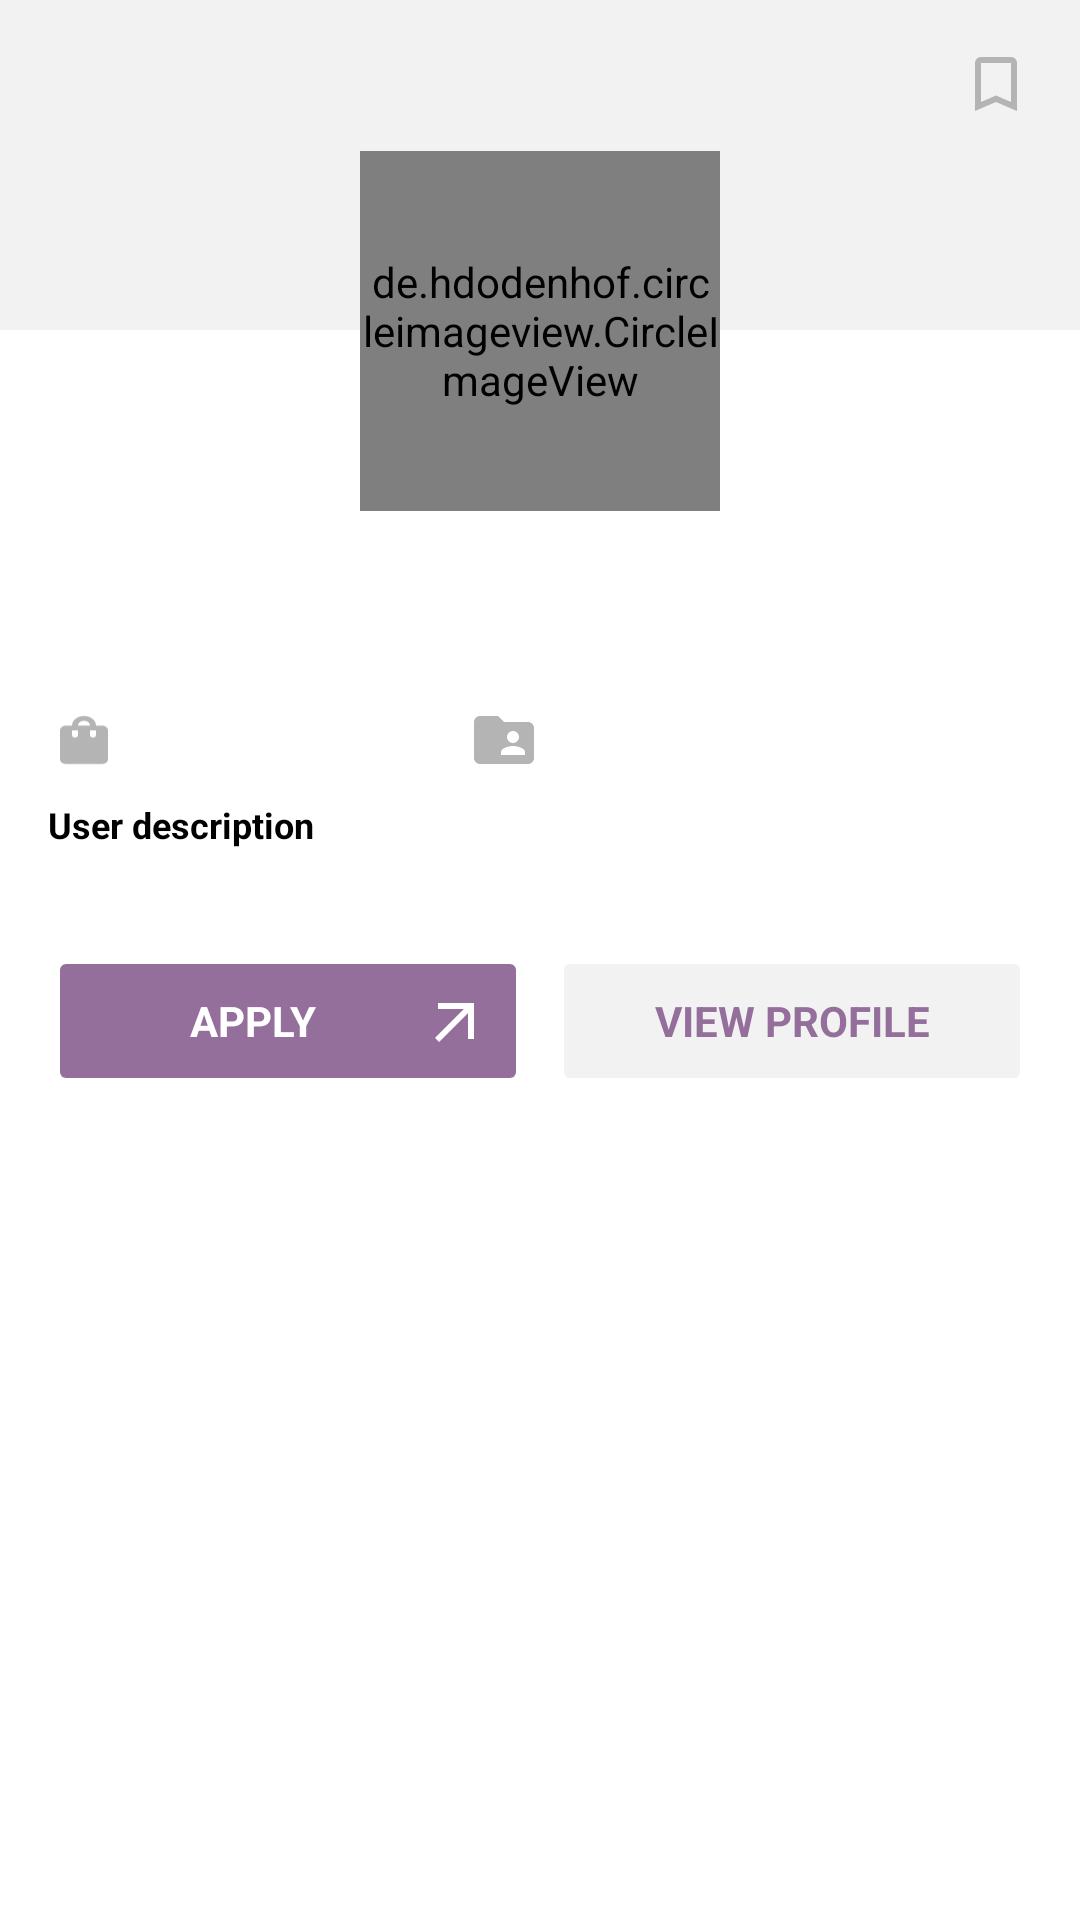

Where icons sit on this 1080w x 1920h app screen, as bbox=(x1, y1, x2, y2):
archive false: bbox=(975, 57, 1017, 111)
type job: bbox=(60, 716, 108, 764)
